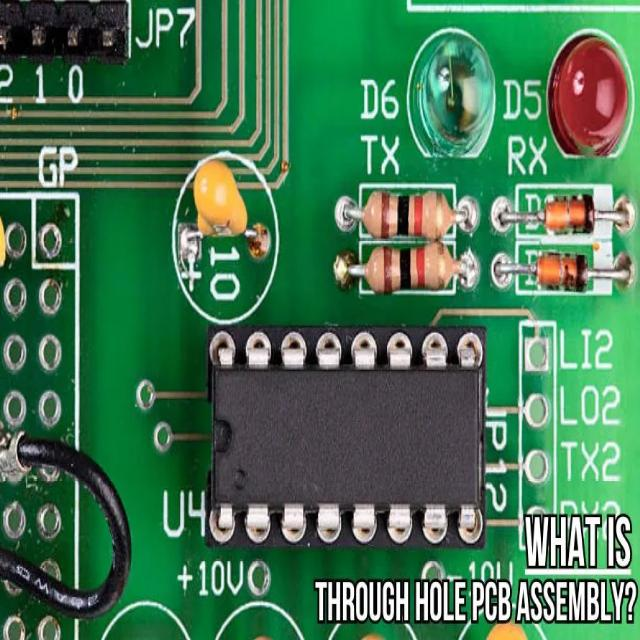IC: (206, 332, 485, 548)
led: (551, 38, 627, 158), (417, 34, 489, 160)
resistor: (360, 234, 458, 303), (351, 184, 451, 244)
